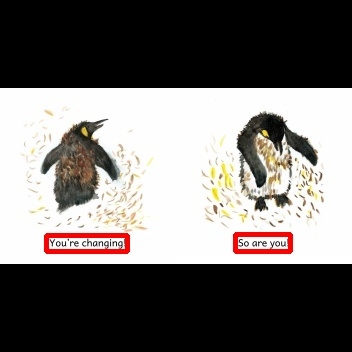latin: (46, 235, 127, 251), (235, 234, 290, 251)
